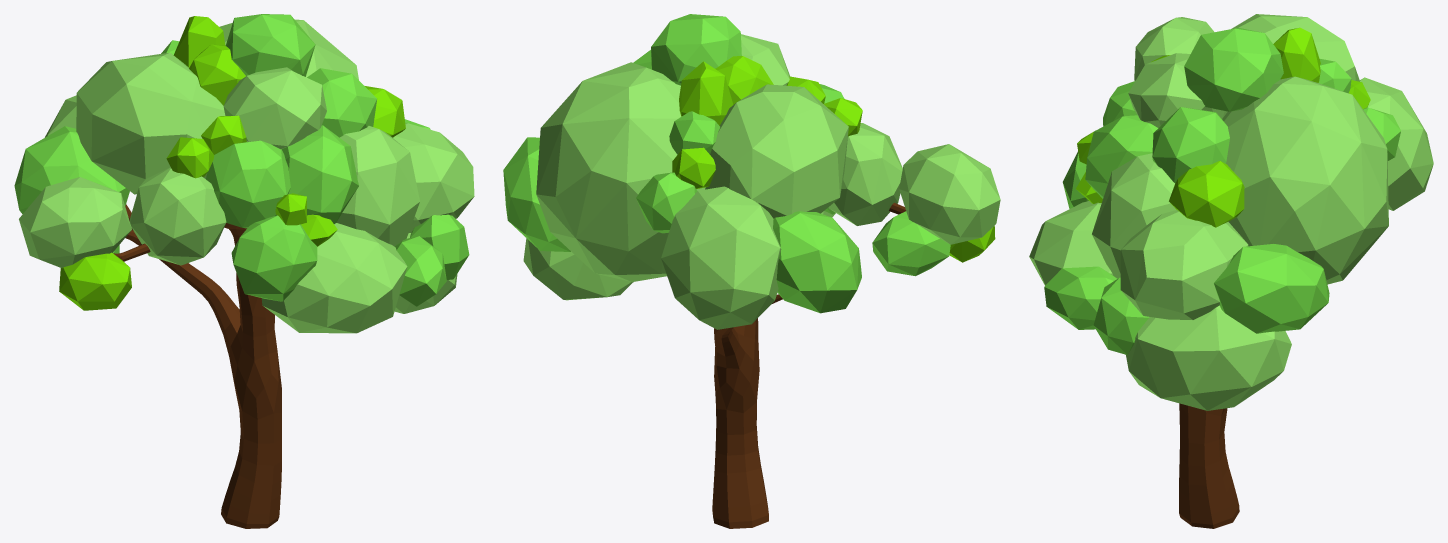
File: tree1.fbx
3 renders of one model, left to right at view 1: azimuth 30°, elevation 25°; view 2: azimuth 150°, elevation 25°; view 3: azimuth 270°, elevation 25°, orthographic. The views are drawn at different scales.
Parts seen in each view (by area): view 1: Sphere.053; view 2: Sphere.053; view 3: Sphere.053.
Boxes of the visible parts, x1,y1,x2,y2 form: Sphere.053: [14, 14, 474, 528]; Sphere.053: [503, 14, 1000, 528]; Sphere.053: [1029, 14, 1433, 528].
Size of the model in its own units: 1464 by 1554 by 1137.
